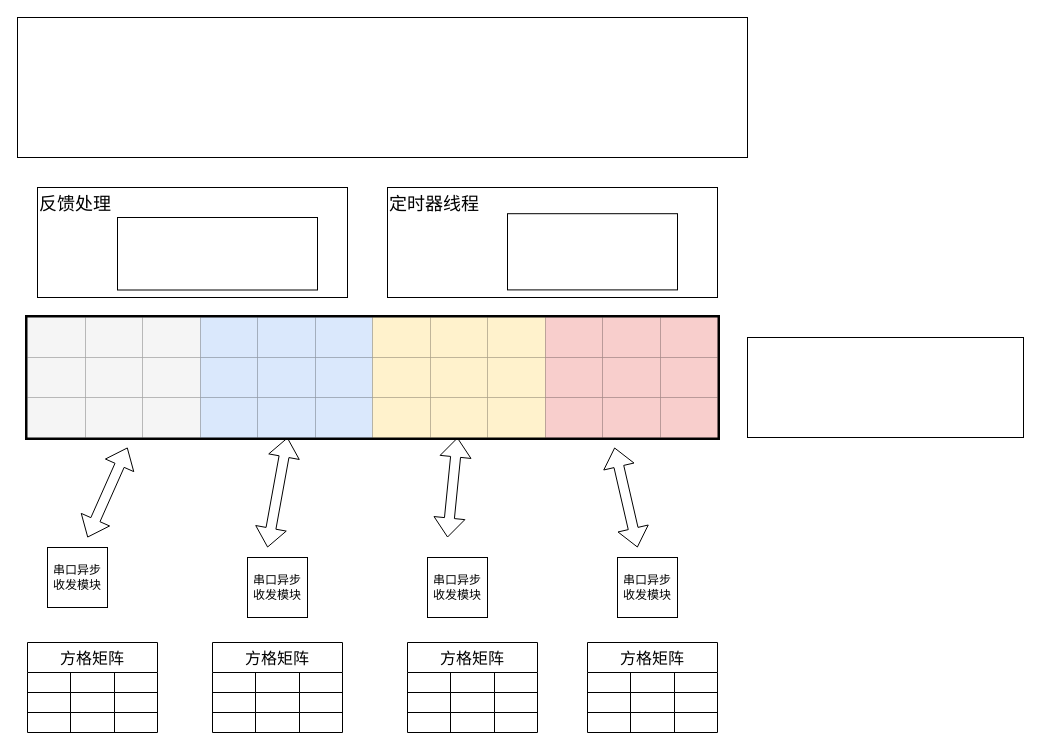
Some shapes in this 1041 by 750 pixel diagram are drawn without their labels. The centre of each missing label's shape, as x and y in pixels:
一个完整的frame，存储了当前方格的颜色和反馈状态: point 885,387
判断当前方格的反馈，例如踩踏到红色格子了更新对应格子的颜色为白色: point 217,253
更新方格的变化，并带上反馈后的效果。刷新画面: point 592,251
游戏的逻辑实现层: point 382,87
